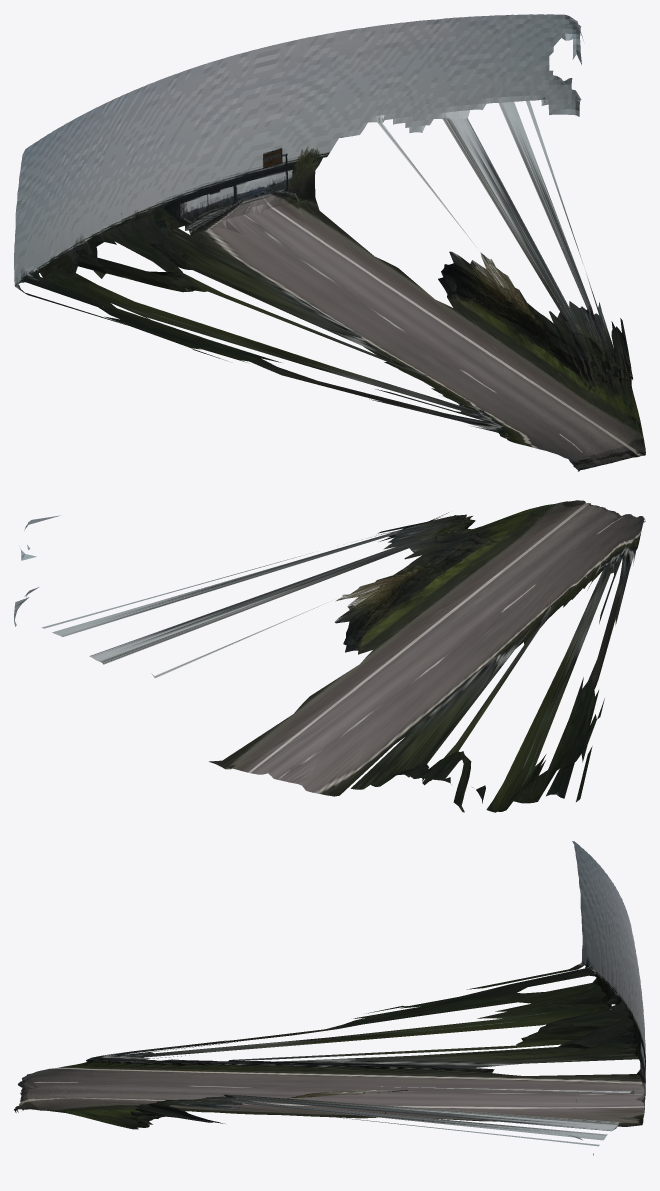
3 renders of one model, top to bottom at view 1: azimuth 30°, elevation 25°; view 2: azimuth 150°, elevation 25°; view 3: azimuth 270°, elevation 25°, orthographic. The views are drawn at different scales.
Parts seen in each view (by area): view 1: defaultobject; view 2: defaultobject; view 3: defaultobject.
Boxes of the visible parts, x1=… form: defaultobject: x1=14, y1=14, x2=645, y2=471; defaultobject: x1=14, y1=500, x2=645, y2=812; defaultobject: x1=14, y1=841, x2=645, y2=1155.
Size of the model in its own units: 41.02 by 12.29 by 44.54.
Materials: 1 (1 with a texture image).
